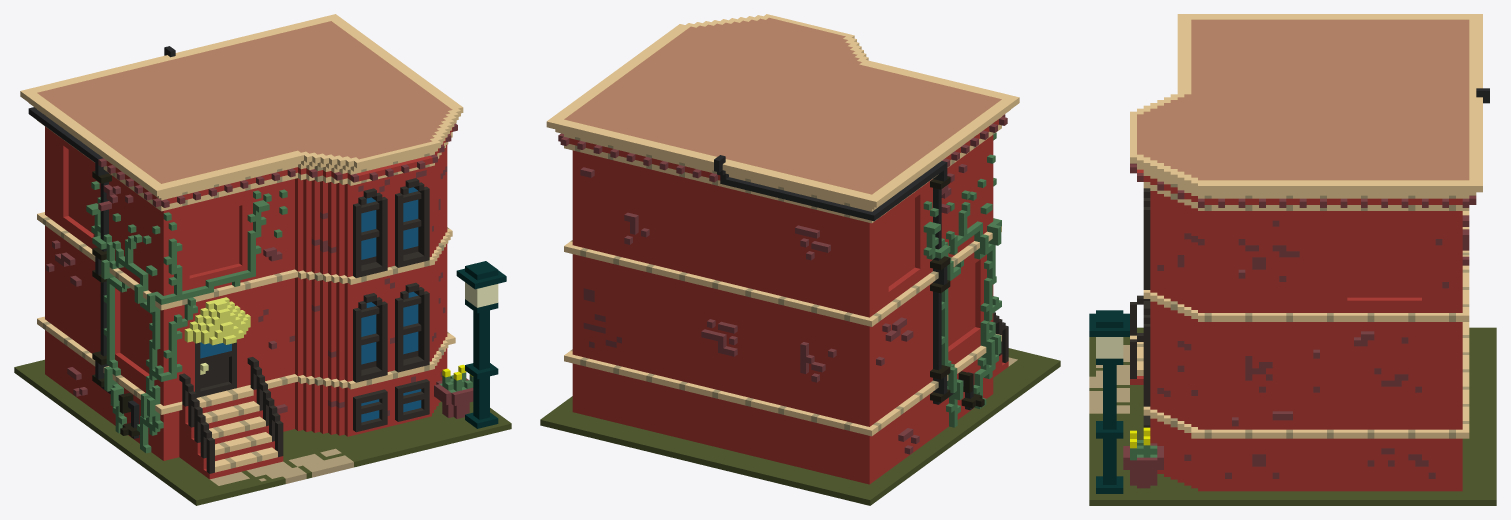
Rendered from Red-house-7-Edificio.obj.
3 views of the same model, side by side, from view 1: azimuth 30°, elevation 25°; view 2: azimuth 150°, elevation 25°; view 3: azimuth 270°, elevation 25° (orthographic). The views are drawn at different scales.
Parts seen in each view (by area): view 1: Edificio; view 2: Edificio; view 3: Edificio.
Boxes of the visible parts, left/top/right/bottom form: Edificio: left=14, top=14, right=511, bottom=505; Edificio: left=540, top=14, right=1060, bottom=505; Edificio: left=1089, top=14, right=1496, bottom=505.
Size of the model in its own units: 6 by 5.3 by 6.
1 material, 1 textured.
